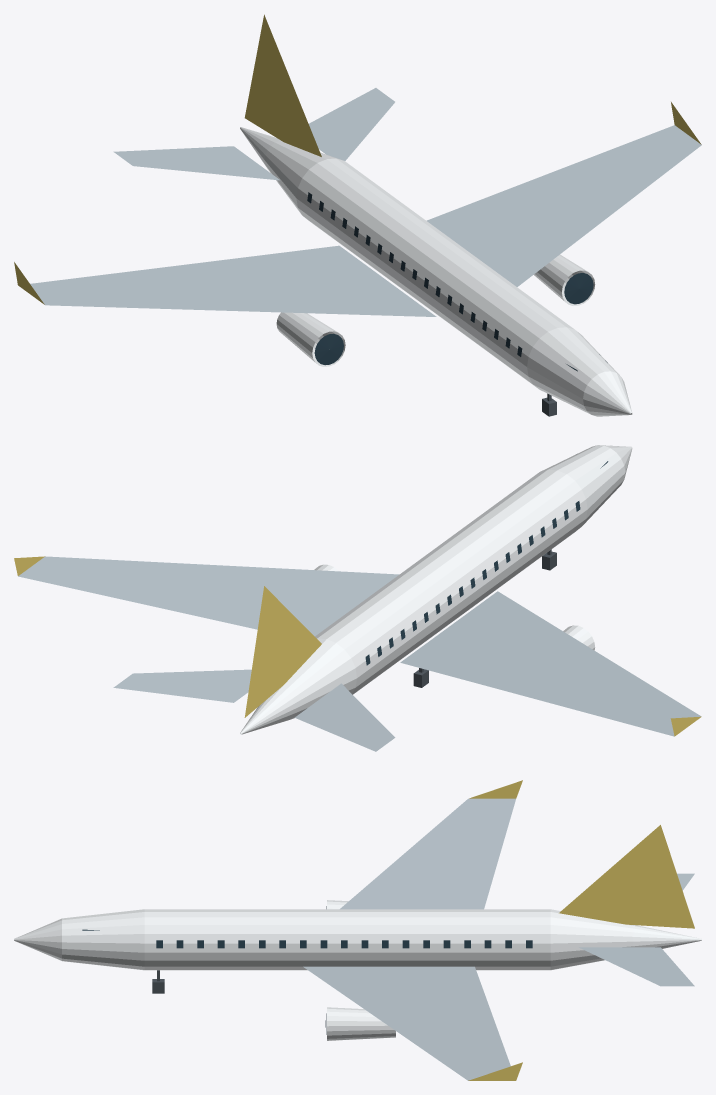
The model's file is a350-DLH.gltf.
The picture shows the model from 3 angles, top to bottom: view 1: azimuth 30°, elevation 25°; view 2: azimuth 150°, elevation 25°; view 3: azimuth 270°, elevation 25°; orthographic projection. The views are drawn at different scales.
Parts seen in each view (by area): view 1: object 1; view 2: object 1, Gear; view 3: object 1.
Boxes of the visible parts, <box> form: object 1: <box>14,14,701,416</box>; object 1: <box>14,445,701,751</box>; Gear: <box>413,549,556,687</box>; object 1: <box>14,780,701,1080</box>.
Size of the model in its own units: 65 by 17.98 by 67.
